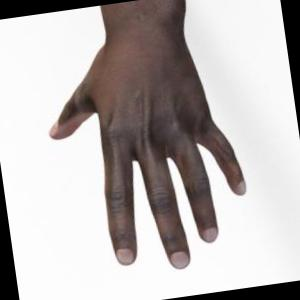paper: (50, 0, 246, 269)
